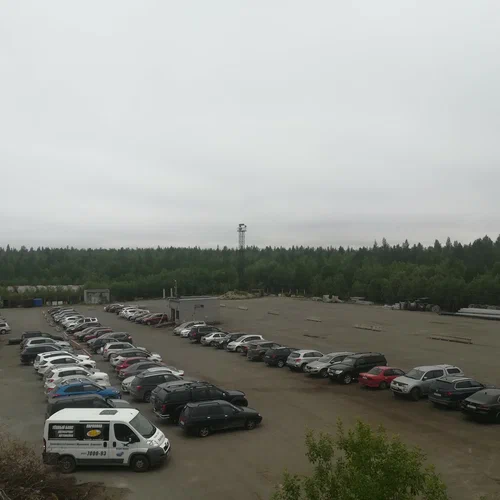Car: (43, 407, 171, 472), (153, 382, 249, 425), (179, 400, 263, 437), (43, 393, 133, 424), (390, 364, 464, 400), (427, 376, 495, 411), (327, 352, 388, 384), (150, 380, 206, 411), (44, 374, 111, 399), (130, 371, 182, 403), (48, 378, 122, 400), (121, 367, 184, 392), (305, 351, 358, 378), (43, 366, 110, 386), (38, 355, 97, 377), (34, 350, 90, 373), (461, 388, 500, 420), (118, 362, 176, 381), (359, 366, 405, 389), (110, 349, 162, 369), (43, 364, 100, 382), (20, 345, 71, 365), (286, 349, 325, 372), (100, 342, 147, 361), (115, 358, 166, 375), (264, 347, 300, 368), (248, 340, 284, 361), (87, 332, 132, 347), (188, 326, 229, 342), (227, 335, 265, 352), (213, 332, 247, 349), (23, 337, 70, 349), (173, 320, 206, 335), (77, 327, 112, 341), (91, 337, 119, 354), (21, 331, 63, 341), (200, 332, 227, 346), (180, 324, 207, 338), (84, 329, 113, 341), (70, 322, 100, 333), (142, 313, 168, 325), (241, 340, 260, 355), (73, 327, 97, 338), (41, 343, 73, 351), (125, 310, 150, 320), (66, 322, 85, 334), (136, 313, 157, 323), (130, 311, 148, 322), (120, 307, 137, 318), (124, 309, 142, 318), (104, 304, 124, 312), (0, 322, 11, 335), (21, 338, 31, 349), (110, 306, 124, 313)
